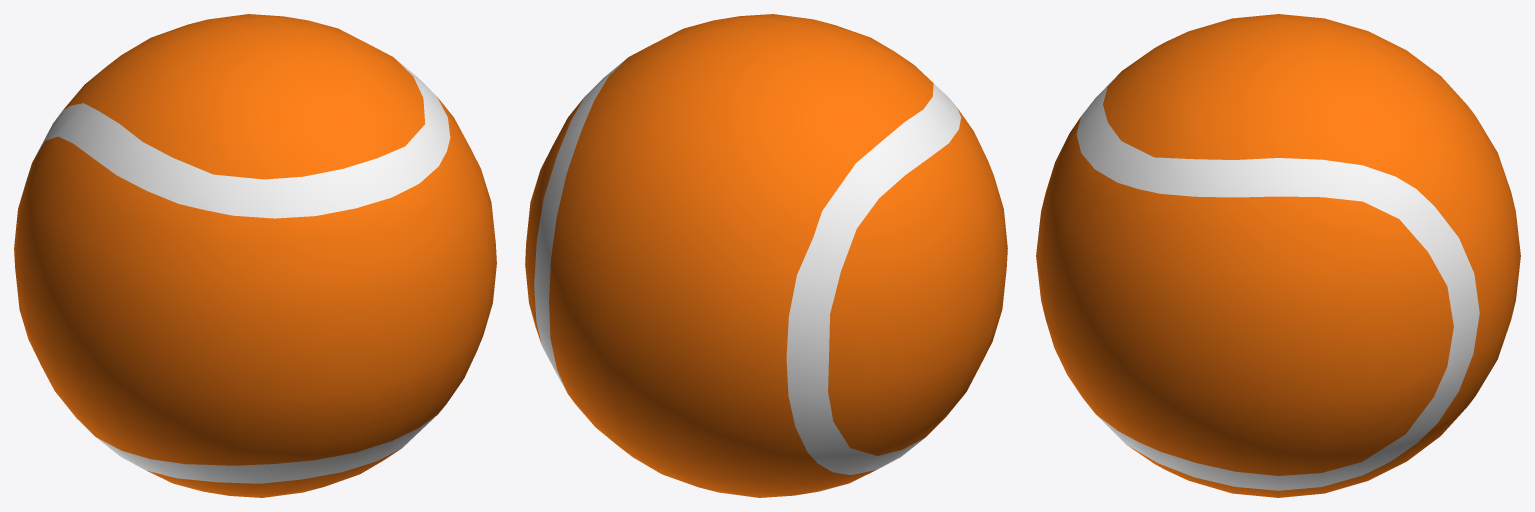
The model's file is Tennisball_Orange.fbx.
3 views of the same model, side by side, from view 1: azimuth 30°, elevation 25°; view 2: azimuth 150°, elevation 25°; view 3: azimuth 270°, elevation 25° (orthographic).
Visible parts, largest first — view 1: Tennisball_Orange; view 2: Tennisball_Orange; view 3: Tennisball_Orange.
Part boxes in pixels (left/top/right/bottom): Tennisball_Orange: left=14, top=14, right=496, bottom=497; Tennisball_Orange: left=525, top=14, right=1007, bottom=497; Tennisball_Orange: left=1036, top=14, right=1520, bottom=497.
Bounding box in the file's own units: 92.63 × 92.63 × 92.63.
